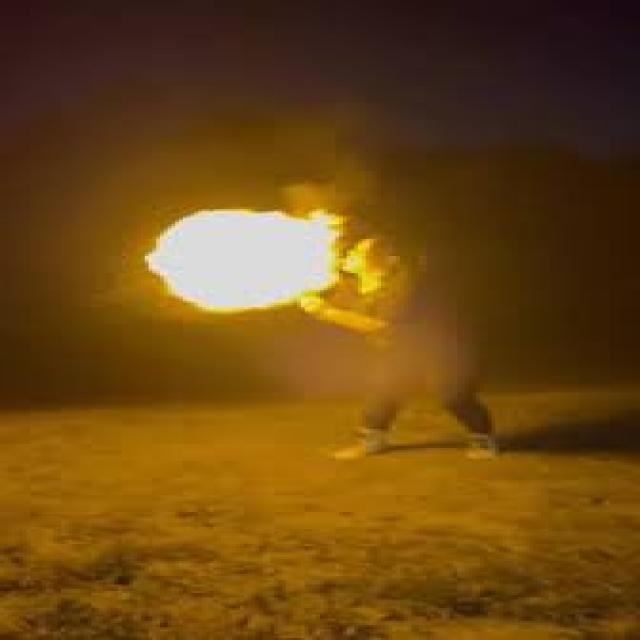fire: (138, 208, 354, 316)
